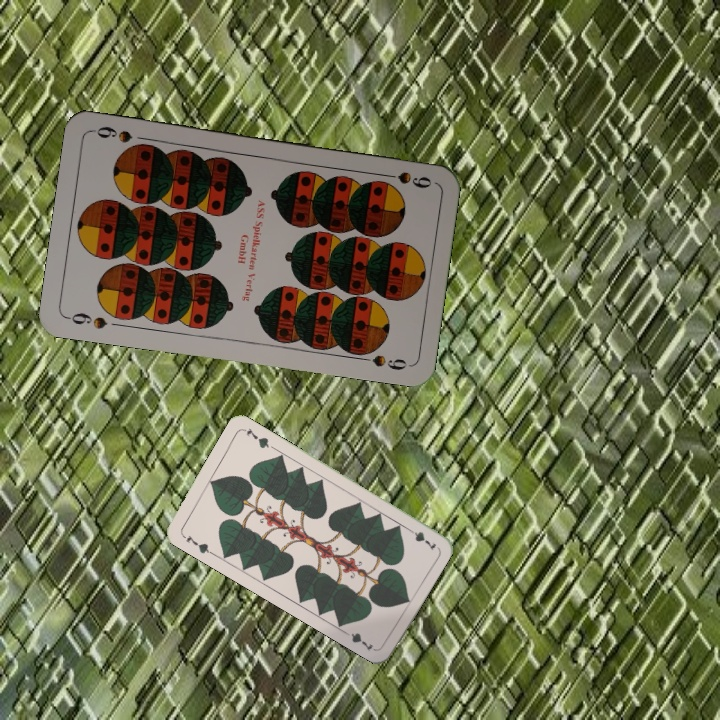G7: (402, 523, 439, 553), (178, 530, 215, 557)
S9: (376, 167, 435, 191), (63, 308, 110, 332)
